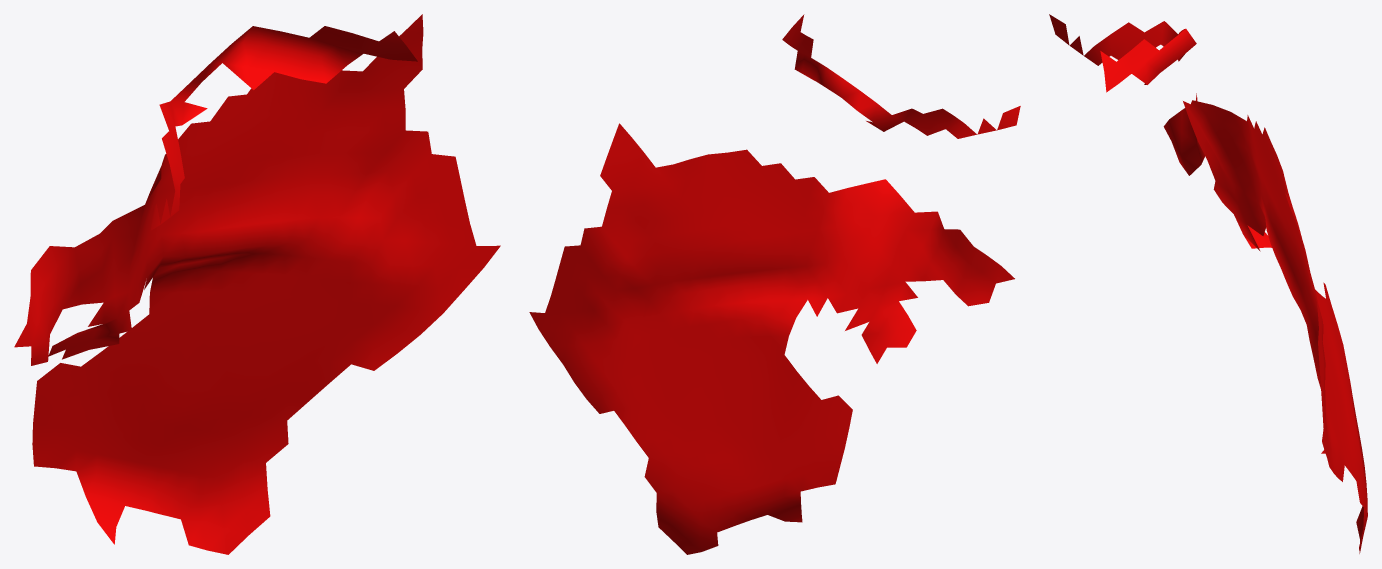
File: SM_GPUI_RockAB_070.fbx
The picture shows the model from 3 angles, left to right: view 1: azimuth 30°, elevation 25°; view 2: azimuth 150°, elevation 25°; view 3: azimuth 270°, elevation 25°; orthographic projection. The views are drawn at different scales.
Visible parts, largest first — view 1: SM_GPUI_RockAB_070; view 2: SM_GPUI_RockAB_070; view 3: SM_GPUI_RockAB_070.
Part boxes in pixels (x1,y1,x2,y2): SM_GPUI_RockAB_070: (14, 14, 500, 554); SM_GPUI_RockAB_070: (529, 14, 1020, 554); SM_GPUI_RockAB_070: (1049, 14, 1367, 553).
Size of the model in its own units: 946 by 992 by 568.
